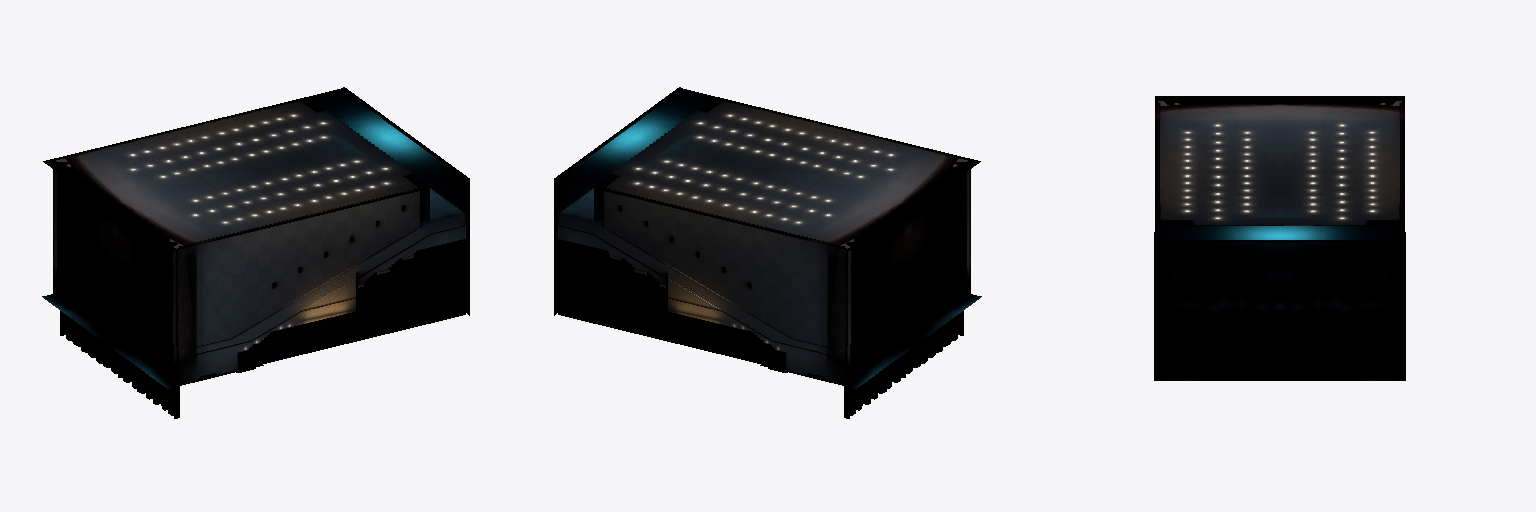
The picture shows the model from 3 angles: view 1: azimuth 30°, elevation 25°; view 2: azimuth 150°, elevation 25°; view 3: azimuth 270°, elevation 25°; orthographic projection.
Visible parts, largest first — view 1: Sala_Baked_01:SalaCinema_Low Sala_Baked_01:tectoChao Sala_Baked_, Sala_Baked_01:SalaCinema_Low Sala_Baked_01:paredes Sala_Baked_01, Sala_Baked_01:Lowpoly_Posicionado1_Props Sala_Baked_01:SalaCinem; view 2: Sala_Baked_01:SalaCinema_Low Sala_Baked_01:tectoChao Sala_Baked_, Sala_Baked_01:SalaCinema_Low Sala_Baked_01:paredes Sala_Baked_01, Sala_Baked_01:Lowpoly_Posicionado1_Props Sala_Baked_01:SalaCinem; view 3: Sala_Baked_01:SalaCinema_Low Sala_Baked_01:tectoChao Sala_Baked_.
Boxes of the visible parts, <box> form: Sala_Baked_01:SalaCinema_Low Sala_Baked_01:tectoChao Sala_Baked_: <box>42,87,469,388</box>; Sala_Baked_01:SalaCinema_Low Sala_Baked_01:paredes Sala_Baked_01: <box>59,98,465,383</box>; Sala_Baked_01:Lowpoly_Posicionado1_Props Sala_Baked_01:SalaCinem: <box>60,250,300,418</box>; Sala_Baked_01:SalaCinema_Low Sala_Baked_01:tectoChao Sala_Baked_: <box>554,87,981,388</box>; Sala_Baked_01:SalaCinema_Low Sala_Baked_01:paredes Sala_Baked_01: <box>558,98,964,383</box>; Sala_Baked_01:Lowpoly_Posicionado1_Props Sala_Baked_01:SalaCinem: <box>723,250,963,418</box>; Sala_Baked_01:SalaCinema_Low Sala_Baked_01:tectoChao Sala_Baked_: <box>1154,96,1405,380</box>.
Size of the model in its own units: 15.21 by 8.45 by 10.97.
Materials: 4 (4 with a texture image).